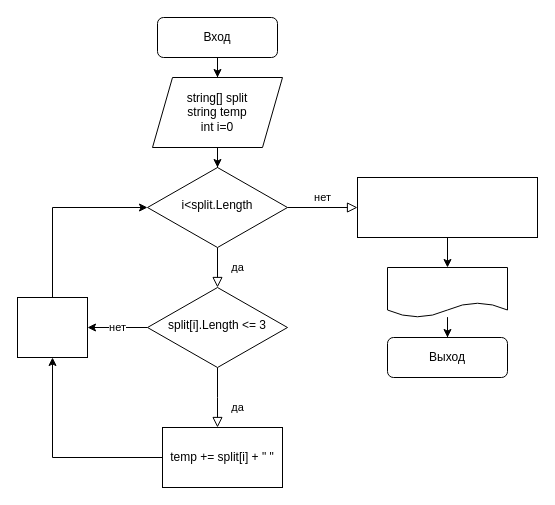
Some shapes in this 555 by 505 pixel diagram are drawn without their labels. Each missing label, with the box of its shape:
i++: (16, 296, 88, 358)
result: (386, 266, 508, 318)
string[] result = temp.Split(): (356, 176, 538, 238)
